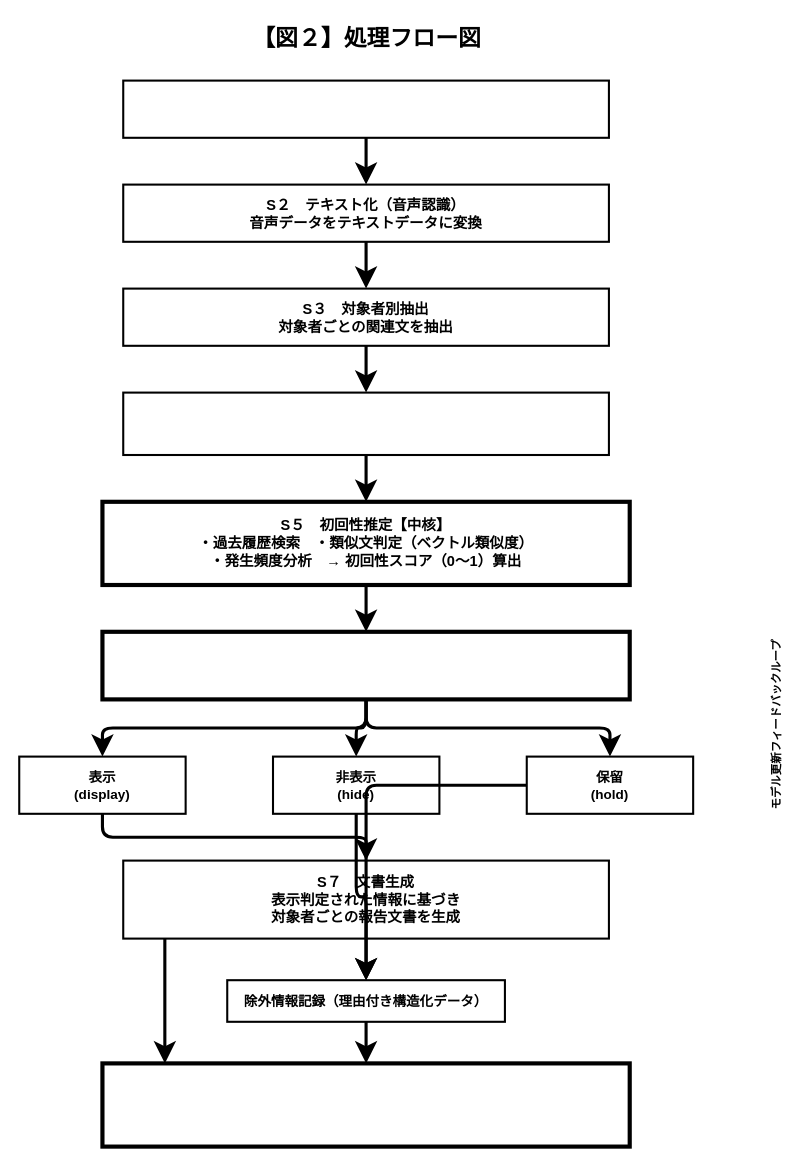
Some shapes in this 801 by 1166 pixel diagram are drawn without their labels. Each missing label, with the centre of its shape:
S１ 音声入力 施設担当者が端末から音声データを入力: point (365, 108)
S４ 発達イベント検出 キーワード照合 / 文脈解析 / 機械学習分類: point (365, 423)
S６ 開示制御【中核】 初回性スコア + 開示適切性スコア + ユーザ設定: point (365, 665)
S８ 学習更新【中核】 担当者フィードバック（承認・修正・除外解除等） → 検出モデル及び推定モデルを更新: point (365, 1104)
